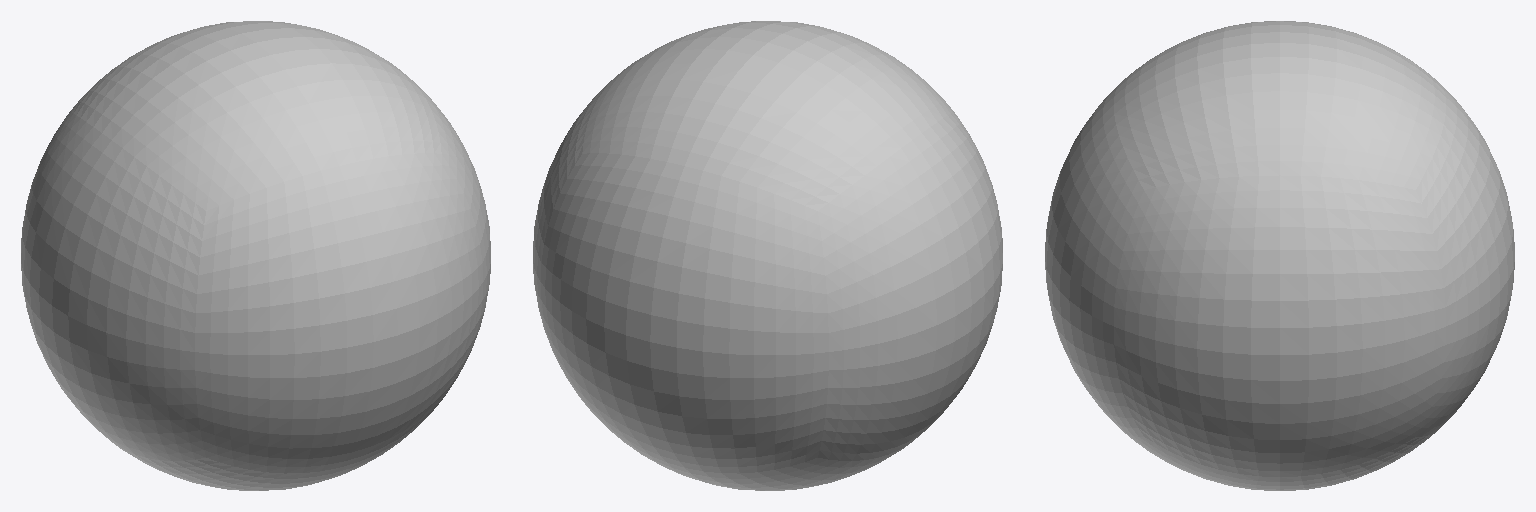
The model's file is mySphere.obj.
3 renders of one model, left to right at view 1: azimuth 30°, elevation 25°; view 2: azimuth 150°, elevation 25°; view 3: azimuth 270°, elevation 25°, orthographic.
Visible parts, largest first — view 1: node_id3_mesh_id4; view 2: node_id3_mesh_id4; view 3: node_id3_mesh_id4.
Boxes of the visible parts, x1,y1,x2,y2 form: node_id3_mesh_id4: [21, 21, 490, 490]; node_id3_mesh_id4: [533, 21, 1002, 490]; node_id3_mesh_id4: [1045, 21, 1514, 490].
Size of the model in its own units: 0.0051 by 0.0051 by 0.0051.